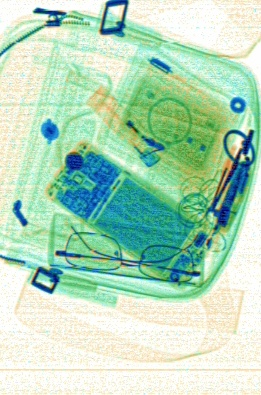lighter: (85, 83, 165, 166)
